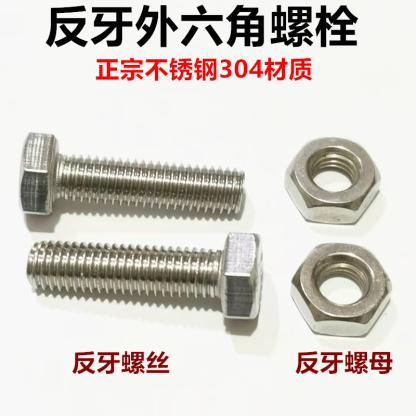FOD: (26, 230, 263, 323), (16, 129, 246, 222), (289, 240, 394, 338), (284, 133, 384, 227)
